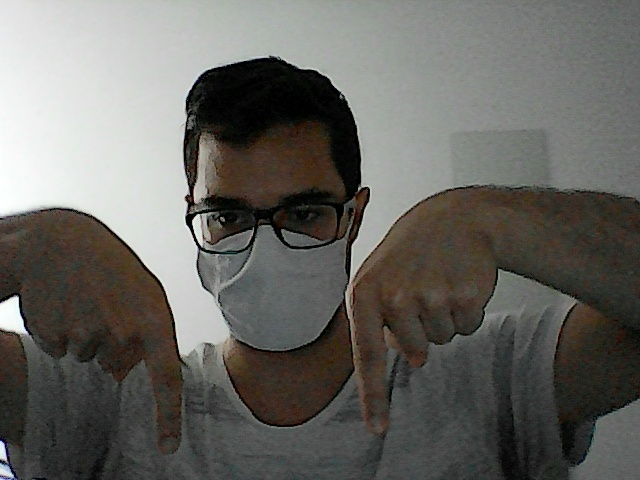down: (16, 199, 194, 462), (340, 174, 512, 444)
